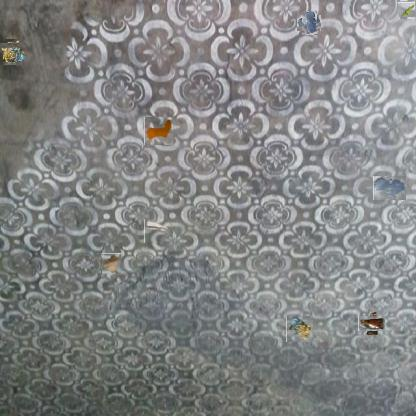dirty: (144, 117, 173, 145), (286, 316, 313, 342), (144, 219, 169, 244), (2, 40, 25, 64), (361, 313, 383, 334), (101, 253, 121, 274), (399, 2, 416, 18)
liquid: (373, 176, 406, 200), (300, 13, 320, 33)
